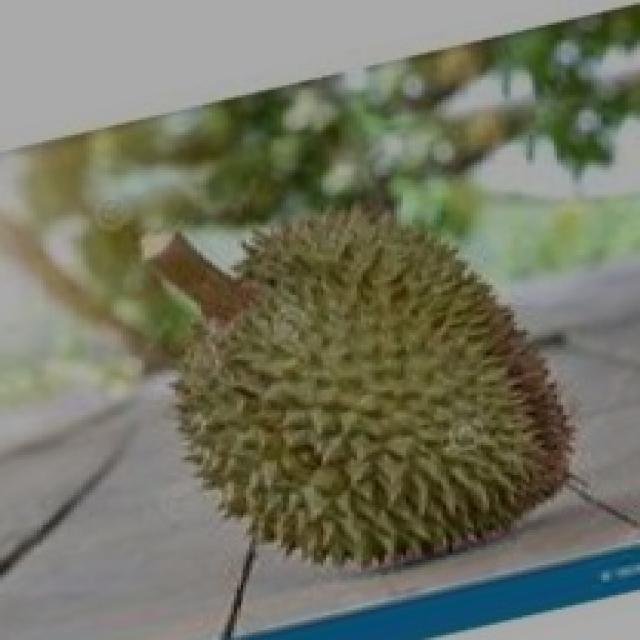fruit: (268, 195, 609, 610)
